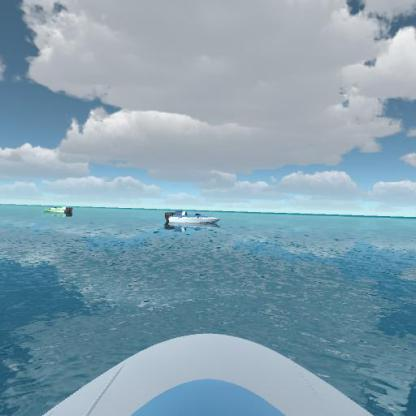usv0: (41, 198, 76, 219)
usv1: (163, 208, 221, 230)
